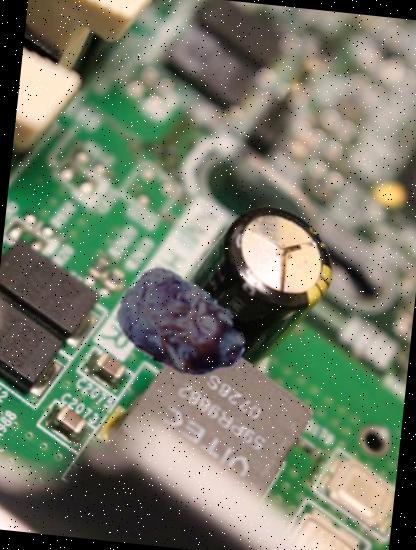Dates: (109, 255, 254, 400)
